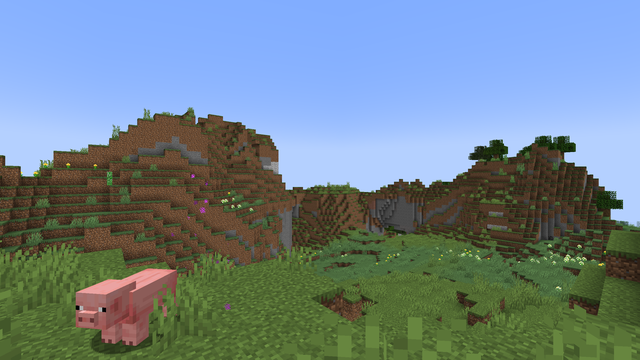cochons: (107, 265, 174, 352)
creepers: (106, 171, 112, 185)
